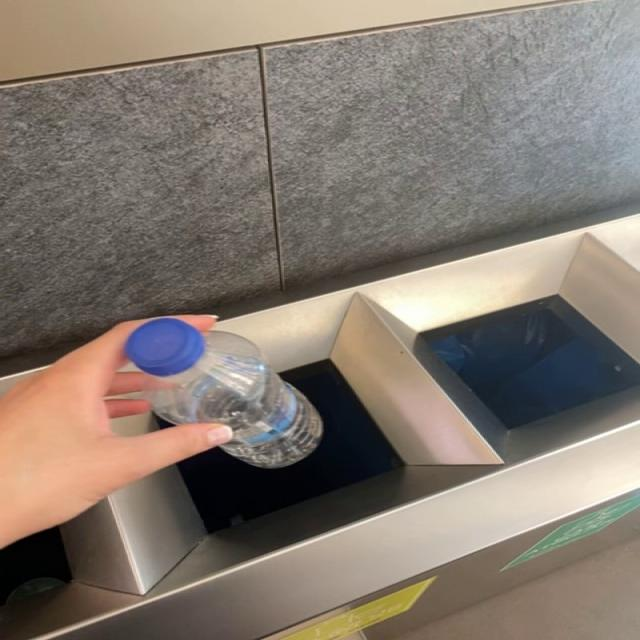plastic: (124, 318, 323, 470)
